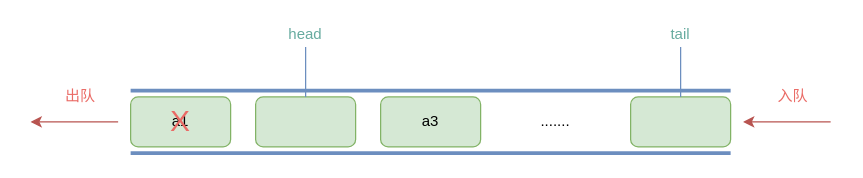
This 863x178 diagram has some shape labels left out. The shapes that lost their labels are listed below. From the top down, each one's centre as x and y in pixels, then its label:
At (x=305, y=121): "a2".
At (x=680, y=121): "an".
